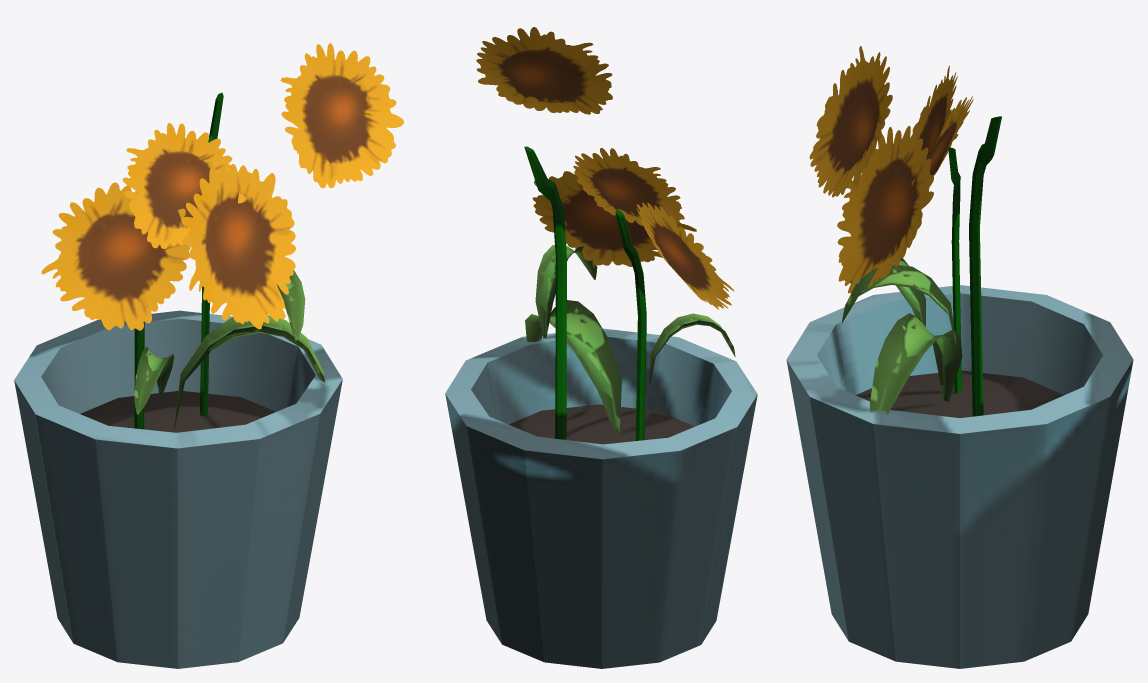
Rendered from Tx_prop_sunflower_6.fbx.
3 renders of one model, left to right at view 1: azimuth 30°, elevation 25°; view 2: azimuth 150°, elevation 25°; view 3: azimuth 270°, elevation 25°, orthographic. The views are drawn at different scales.
Parts seen in each view (by area): view 1: Tx_prop_sunflower_10; view 2: Tx_prop_sunflower_10; view 3: Tx_prop_sunflower_10.
Boxes of the visible parts, <box> form: Tx_prop_sunflower_10: <box>14,43,403,668</box>; Tx_prop_sunflower_10: <box>445,27,757,668</box>; Tx_prop_sunflower_10: <box>786,46,1133,668</box>.
Bounding box in the file's own units: 3.04 × 5.1 × 2.59.
2 materials, 2 textured.
